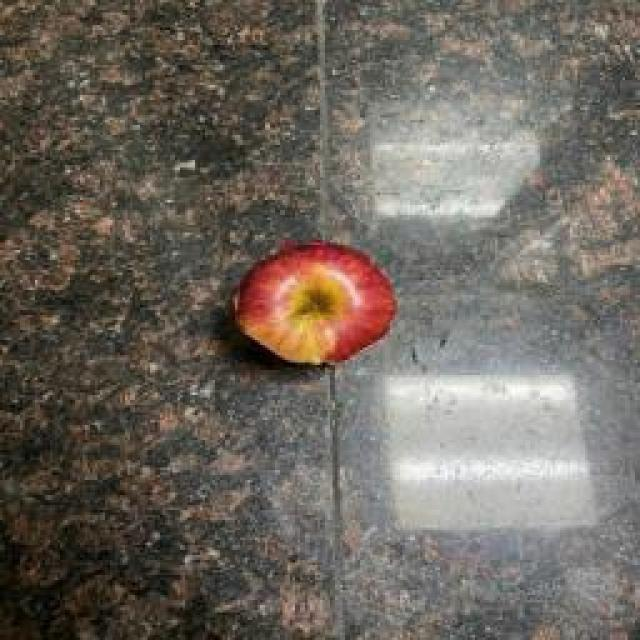Apple: (234, 241, 396, 363)
